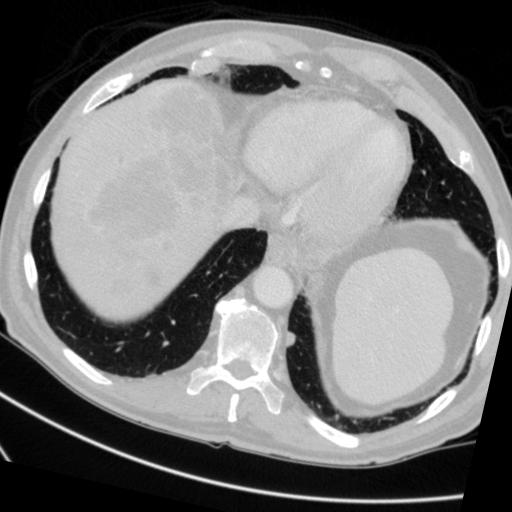nodule: (280, 328, 302, 350)
